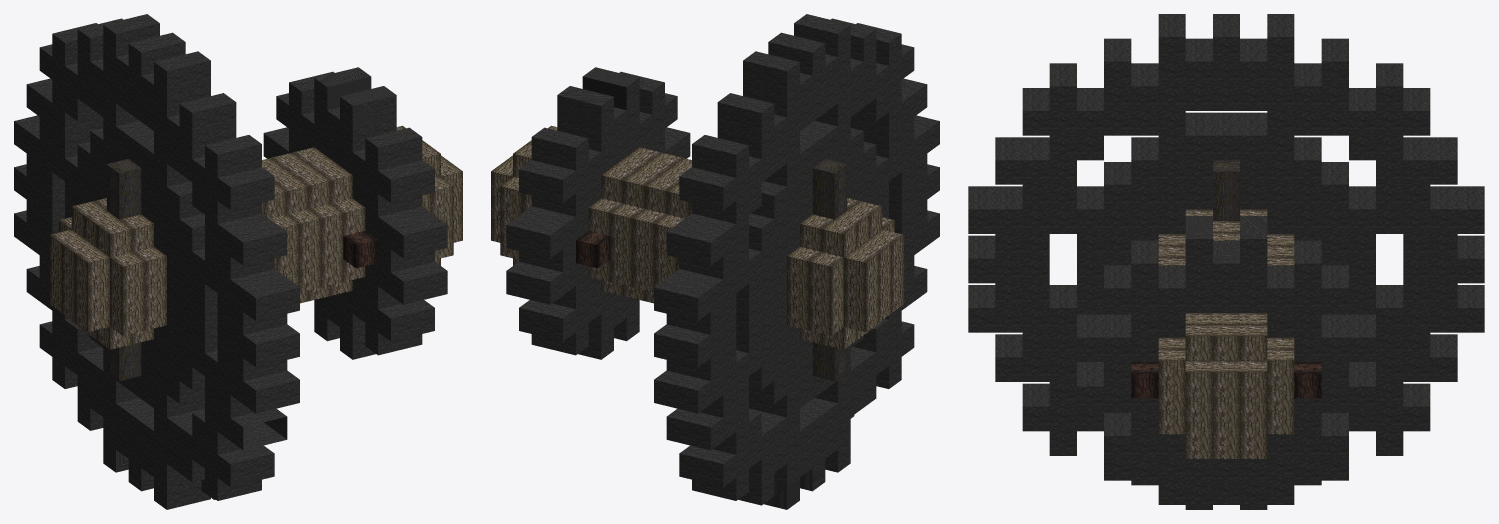
Rendered from smallgear.fbx.
3 renders of one model, left to right at view 1: azimuth 30°, elevation 25°; view 2: azimuth 150°, elevation 25°; view 3: azimuth 270°, elevation 25°, orthographic. The views are drawn at different scales.
Visible parts, largest first — view 1: smallgear; view 2: smallgear; view 3: smallgear.
Boxes of the visible parts, x1,y1,x2,y2 form: smallgear: [14, 14, 462, 509]; smallgear: [491, 14, 939, 509]; smallgear: [968, 14, 1484, 509].
Bounding box in the file's own units: 1700 × 1900 × 1900.
Materials: 5 (5 with a texture image).
